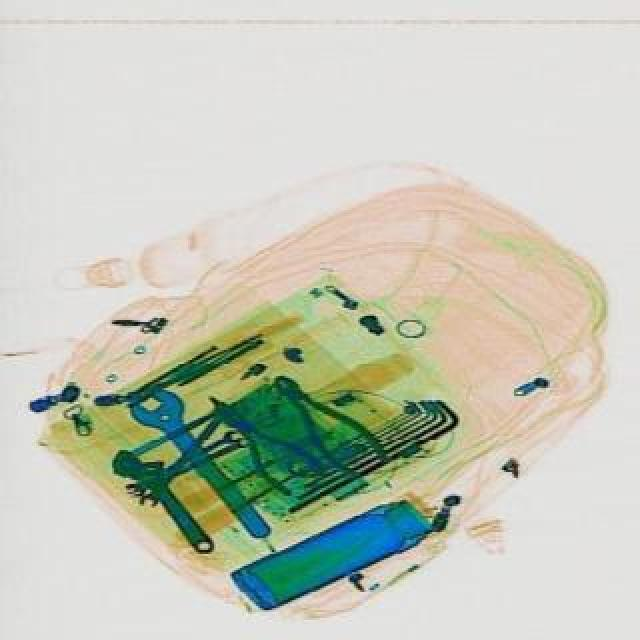scissors: (118, 376, 282, 552), (104, 434, 228, 560)
wrench: (254, 358, 394, 488), (188, 376, 328, 504)
